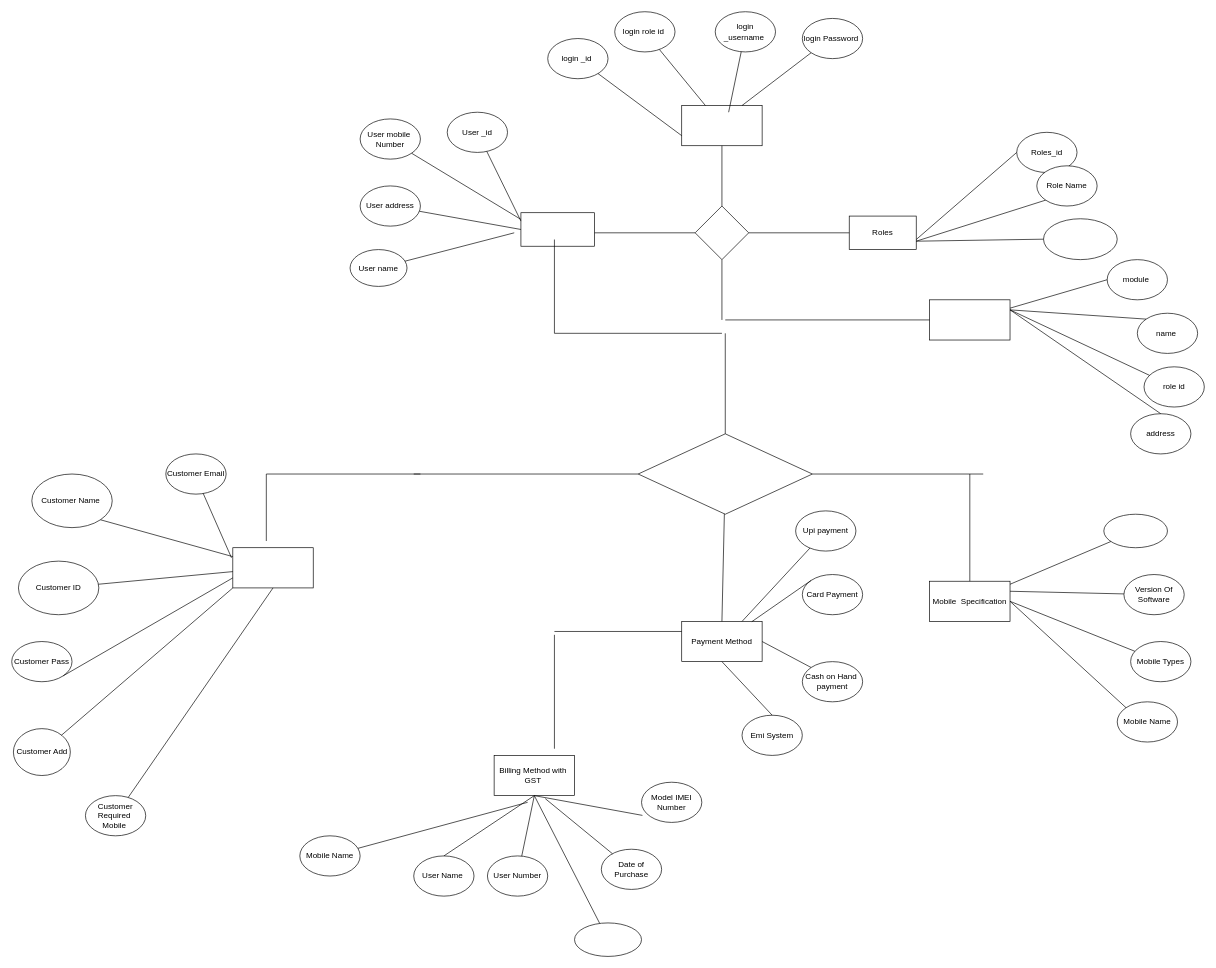
The diagram is 1216 pixels wide and 968 high, and some of its shapes have lost their labels. The centre of each missing label's shape, as x and y in pixels:
Customer: pixel 272 567
Customer Address: pixel 608 939
Has: pixel 721 232
login Management: pixel 721 125
Manage: pixel 725 473
Mobile Model: pixel 1135 531
Permission: pixel 969 319
Required Role: pixel 1080 239
User: pixel 557 229
